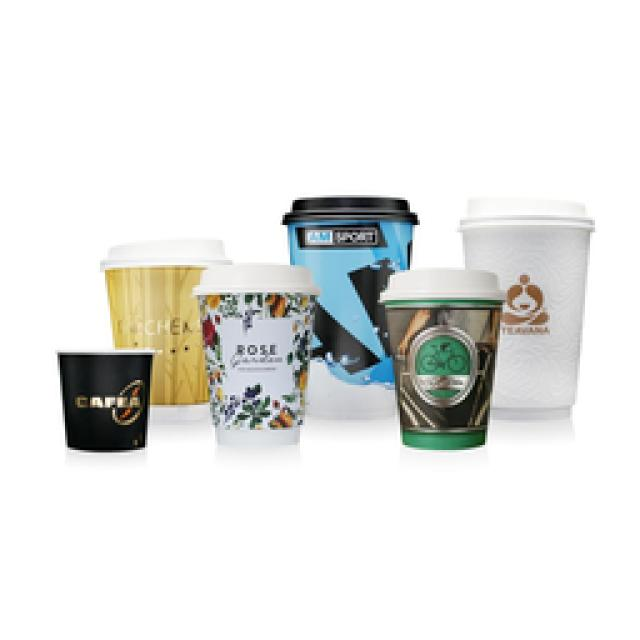paper_cups: (455, 191, 598, 420), (277, 195, 419, 423), (95, 237, 230, 430), (378, 266, 509, 452), (198, 262, 317, 454), (54, 343, 162, 458)
